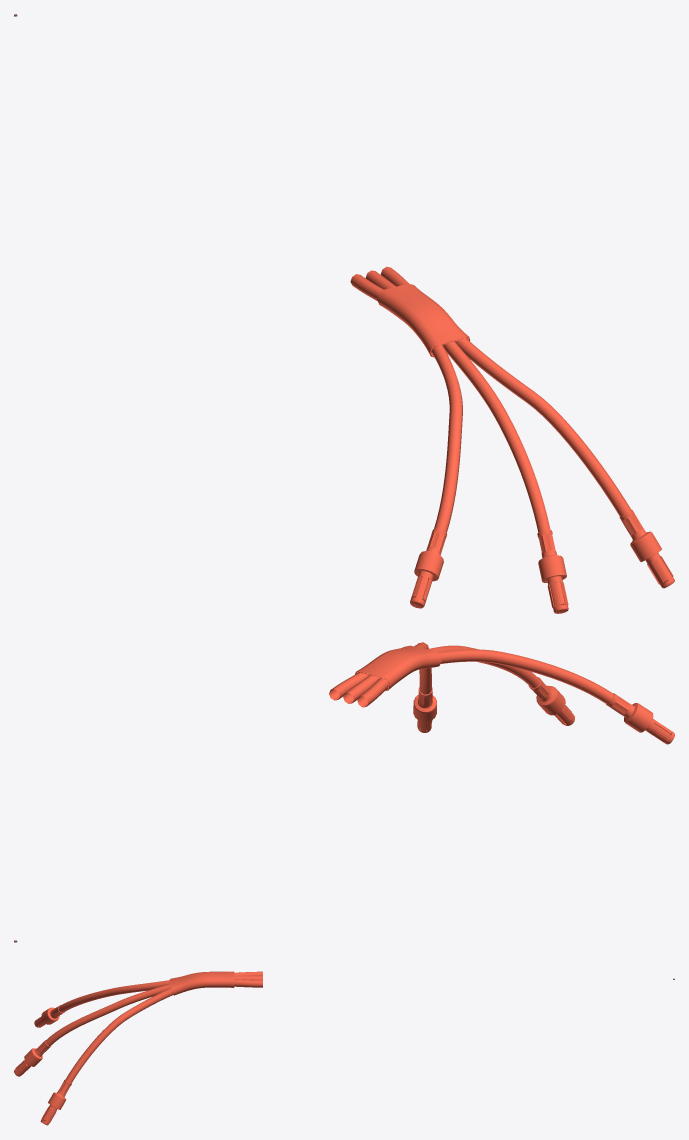
Rendered from coppermagneticcoil - Copy.glb.
3 views of the same model, one above another, from view 1: azimuth 30°, elevation 25°; view 2: azimuth 150°, elevation 25°; view 3: azimuth 270°, elevation 25° (orthographic). The views are drawn at different scales.
Visible parts, largest first — view 1: polySurface11, polySurface12, polySurface10, BezierCurve_003, polySurface27.002, polySurface27.001, polySurface27; view 2: polySurface10, BezierCurve_003, polySurface12, polySurface27, polySurface11, polySurface27.001, polySurface27.002; view 3: polySurface11, polySurface12, BezierCurve_003, polySurface10, polySurface27.002, polySurface27.001, polySurface27.
Part boxes in pixels (x1,y1,x2,y2): polySurface11: [380, 266, 631, 516]; polySurface12: [365, 270, 550, 532]; polySurface10: [350, 274, 462, 532]; BezierCurve_003: [377, 283, 470, 357]; polySurface27.002: [619, 509, 661, 583]; polySurface27.001: [537, 530, 566, 606]; polySurface27: [414, 528, 447, 598]; polySurface10: [357, 649, 613, 707]; BezierCurve_003: [355, 645, 441, 690]; polySurface12: [343, 645, 539, 703]; polySurface27: [606, 693, 670, 739]; polySurface11: [329, 642, 431, 700]; polySurface27.001: [528, 677, 570, 723]; polySurface27.002: [413, 687, 436, 730]; polySurface11: [65, 979, 262, 1083]; polySurface12: [45, 976, 262, 1046]; BezierCurve_003: [170, 971, 234, 995]; polySurface10: [58, 971, 262, 1012]; polySurface27.002: [46, 1080, 71, 1122]; polySurface27.001: [16, 1040, 50, 1070]; polySurface27: [37, 1005, 64, 1026].
Size of the model in its own units: 13.73 by 10.16 by 50.71.
